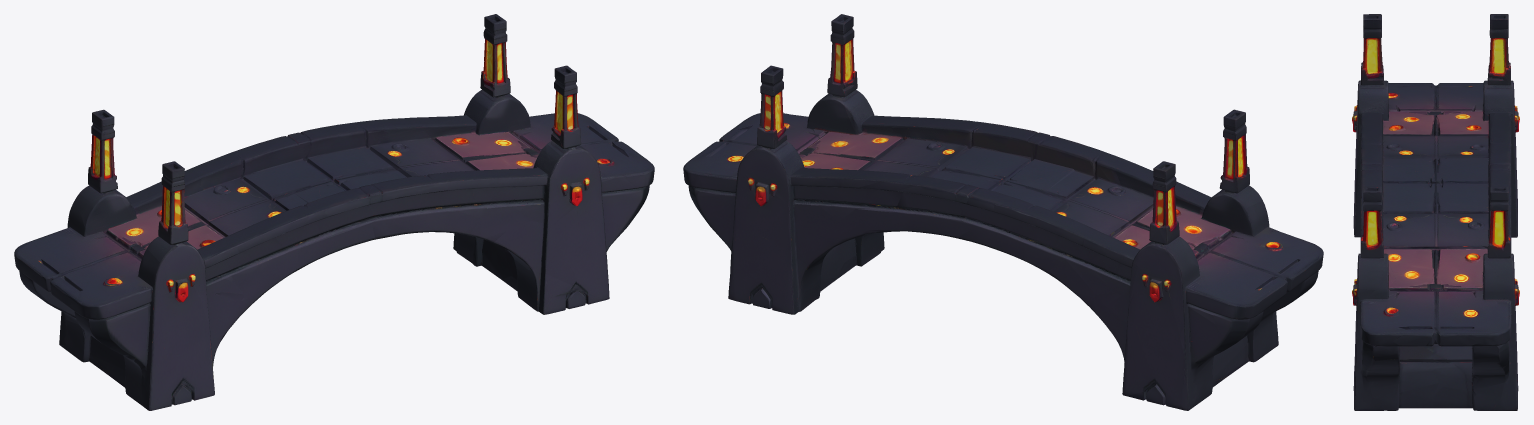
Rendered from volcano-bridge-mesh.glb.
3 renders of one model, left to right at view 1: azimuth 30°, elevation 25°; view 2: azimuth 150°, elevation 25°; view 3: azimuth 270°, elevation 25°, orthographic. The views are drawn at different scales.
Visible parts, largest first — view 1: Mesh_0; view 2: Mesh_0; view 3: Mesh_0.
Boxes of the visible parts, x1,y1,x2,y2 form: Mesh_0: [14, 14, 654, 410]; Mesh_0: [683, 14, 1323, 410]; Mesh_0: [1352, 14, 1519, 410].
Bounding box in the file's own units: 1.9 × 0.7277 × 0.5345.
Materials: 1 (1 with a texture image).
